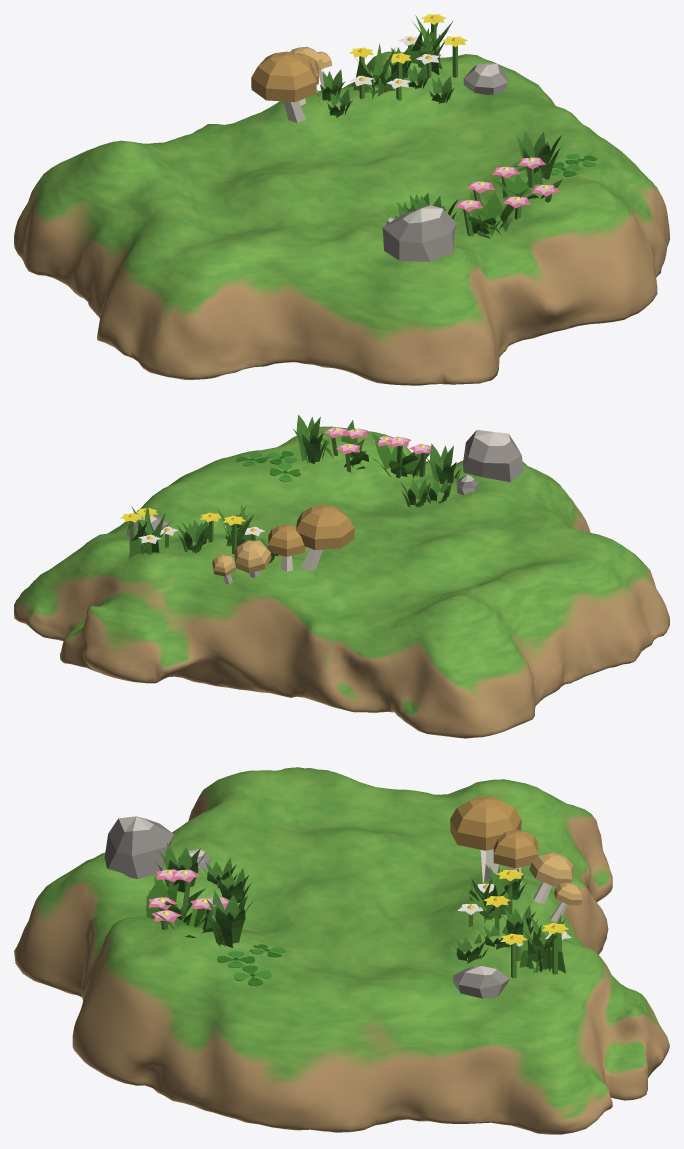
Rendered from island_7.glb.
The picture shows the model from 3 angles, top to bottom: view 1: azimuth 30°, elevation 25°; view 2: azimuth 150°, elevation 25°; view 3: azimuth 270°, elevation 25°; orthographic projection. The views are drawn at different scales.
Visible parts, largest first — view 1: Mesh_0.001, Rock_Big, MushroomCluster_Brown, PinkFlowerPlant.001, GrassPlant.001, GrassPlant, PinkFlowerPlant, Rock_Mid_obj, LeafPlant_Curved.009; view 2: Mesh_0.001, MushroomCluster_Brown, Rock_Big, PinkFlowerPlant.001, GrassPlant.001, MushroomCluster_Tan, GrassPlant, PinkFlowerPlant, LeafPlant_Curved.009, LeafPlant_Curved.008, LeafPlant_Curved.004, LeafPlant_Curved.007; view 3: Mesh_0.001, MushroomCluster_Brown, Rock_Big, GrassPlant.001, MushroomCluster_Tan, GrassPlant, PinkFlowerPlant.001, LeafPlant_Curved.009, Rock_Mid_obj, PinkFlowerPlant, LeafPlant_Curved.008, LeafPlant_Curved.007.
Boxes of the visible parts, <box> form: Mesh_0.001: <box>14,51,669,385</box>; Rock_Big: <box>382,205,456,261</box>; MushroomCluster_Brown: <box>251,51,318,123</box>; PinkFlowerPlant.001: <box>455,181,530,238</box>; GrassPlant.001: <box>398,14,467,77</box>; GrassPlant: <box>349,43,411,100</box>; PinkFlowerPlant: <box>492,157,562,208</box>; Rock_Mid_obj: <box>463,63,507,95</box>; LeafPlant_Curved.009: <box>517,131,562,179</box>; Mesh_0.001: <box>14,426,669,738</box>; MushroomCluster_Brown: <box>268,504,354,571</box>; Rock_Big: <box>463,430,523,482</box>; PinkFlowerPlant.001: <box>372,432,430,478</box>; GrassPlant.001: <box>120,504,178,559</box>; MushroomCluster_Tan: <box>212,540,271,584</box>; GrassPlant: <box>200,504,265,554</box>; PinkFlowerPlant: <box>320,420,368,472</box>; LeafPlant_Curved.009: <box>293,415,335,463</box>; LeafPlant_Curved.008: <box>426,443,468,484</box>; LeafPlant_Curved.004: <box>176,522,207,553</box>; LeafPlant_Curved.007: <box>400,479,430,507</box>; Mesh_0.001: <box>14,767,669,1134</box>; MushroomCluster_Brown: <box>450,796,537,884</box>; Rock_Big: <box>104,816,174,879</box>; GrassPlant.001: <box>500,913,571,978</box>; MushroomCluster_Tan: <box>529,852,582,922</box>; GrassPlant: <box>457,864,523,931</box>; PinkFlowerPlant.001: <box>146,869,205,922</box>; LeafPlant_Curved.009: <box>203,890,252,947</box>; Rock_Mid_obj: <box>453,966,509,998</box>; PinkFlowerPlant: <box>152,897,229,937</box>; LeafPlant_Curved.008: <box>156,843,206,892</box>; LeafPlant_Curved.007: <box>214,868,251,902</box>.
Bounding box in the file's own units: 1.9 × 0.5817 × 1.75.
Materials: 70 (1 with a texture image).
